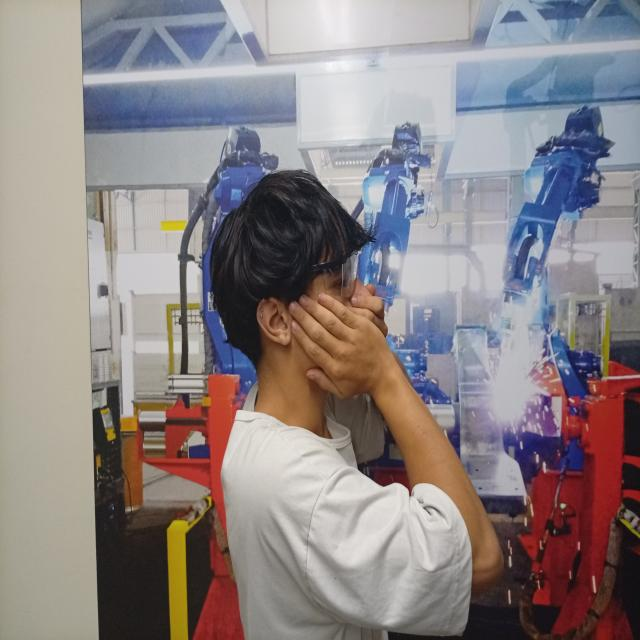oculos-epi: (304, 250, 358, 298)
